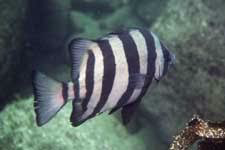azi: (44, 24, 179, 127)
